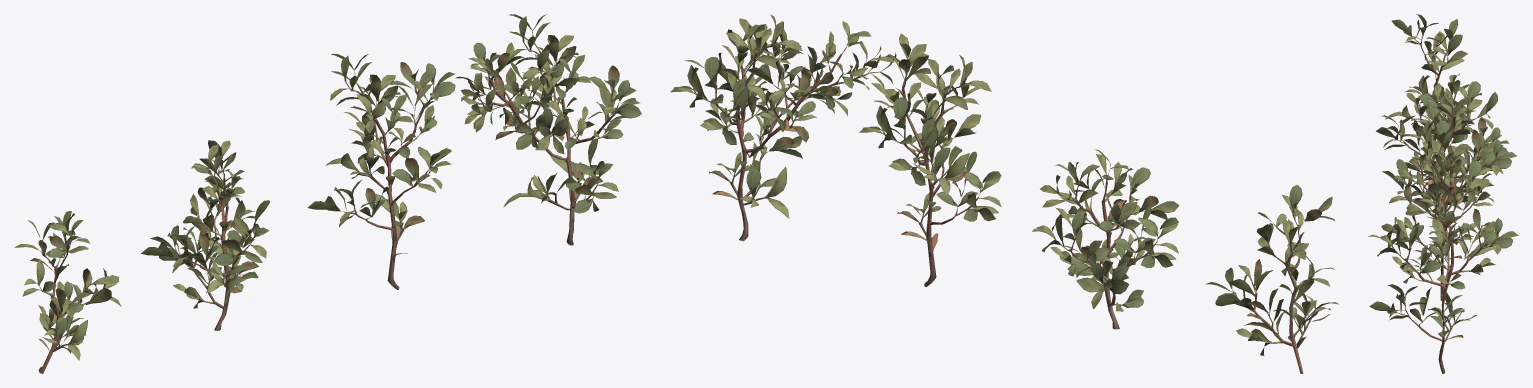
Rendered from shrub_04.glb.
The picture shows the model from 3 angles, left to right: view 1: azimuth 30°, elevation 25°; view 2: azimuth 150°, elevation 25°; view 3: azimuth 270°, elevation 25°; orthographic projection. The views are drawn at different scales.
Visible parts, largest first — view 1: shrub_04; view 2: shrub_04; view 3: shrub_04.
Part boxes in pixels (x1=…): shrub_04: x1=14, y1=14, x2=641, y2=373; shrub_04: x1=670, y1=14, x2=1339, y2=373; shrub_04: x1=1368, y1=14, x2=1518, y2=373.
Bounding box in the file's own units: 0.5837 × 0.2192 × 0.1461.
Materials: 1 (1 with a texture image).
